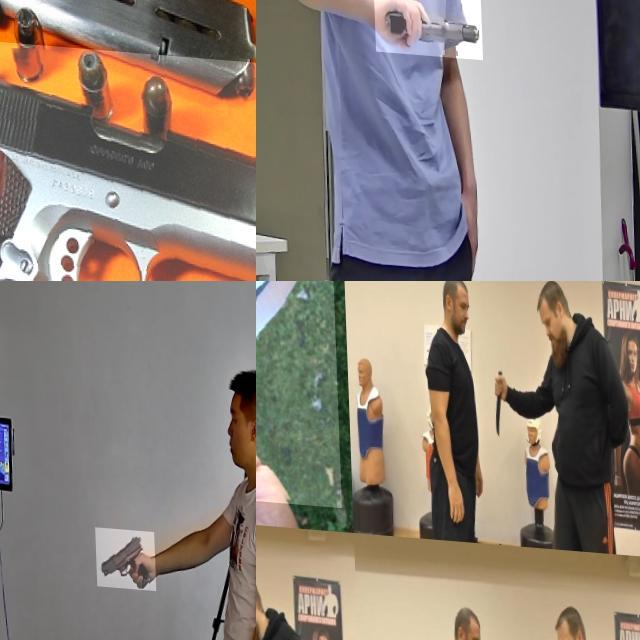-: (256, 281, 394, 502), (490, 358, 503, 430)
gun-knife-thesis - v11 Yolov5 augmented: (0, 23, 256, 281), (372, 0, 481, 53), (94, 524, 154, 588)
